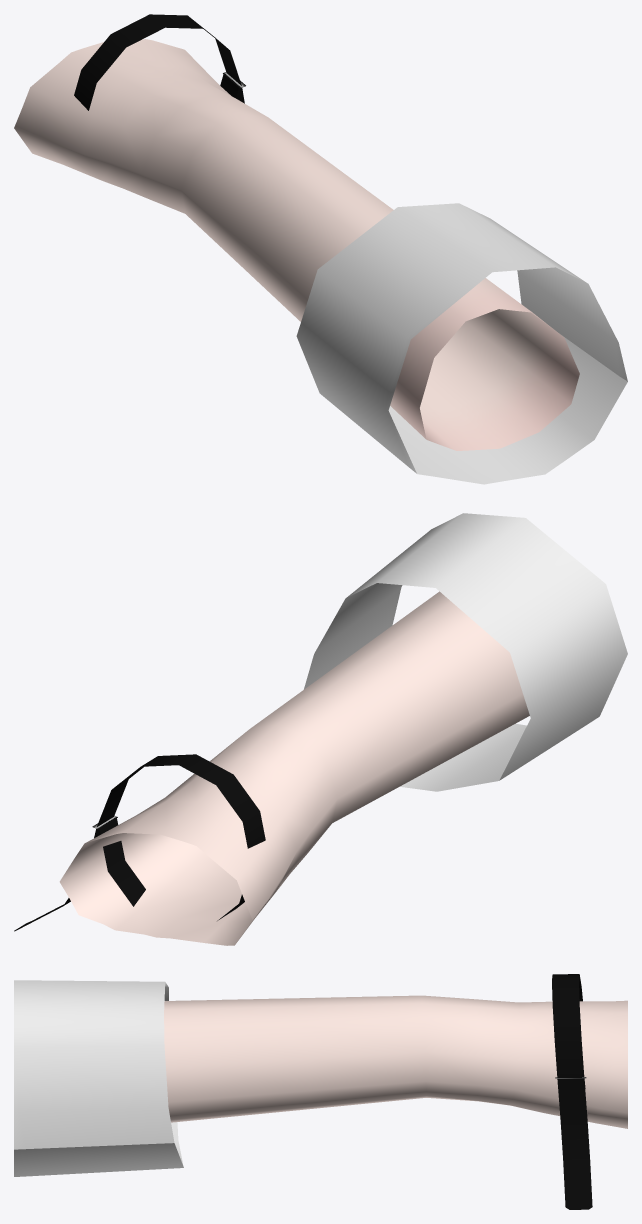
Rendered from IkuyoFretFore.obj.
The picture shows the model from 3 angles, top to bottom: view 1: azimuth 30°, elevation 25°; view 2: azimuth 150°, elevation 25°; view 3: azimuth 270°, elevation 25°; orthographic projection. The views are drawn at different scales.
Size of the model in its own units: 0.1442 by 0.1107 by 0.3492.
Materials: 2 (2 with a texture image).
